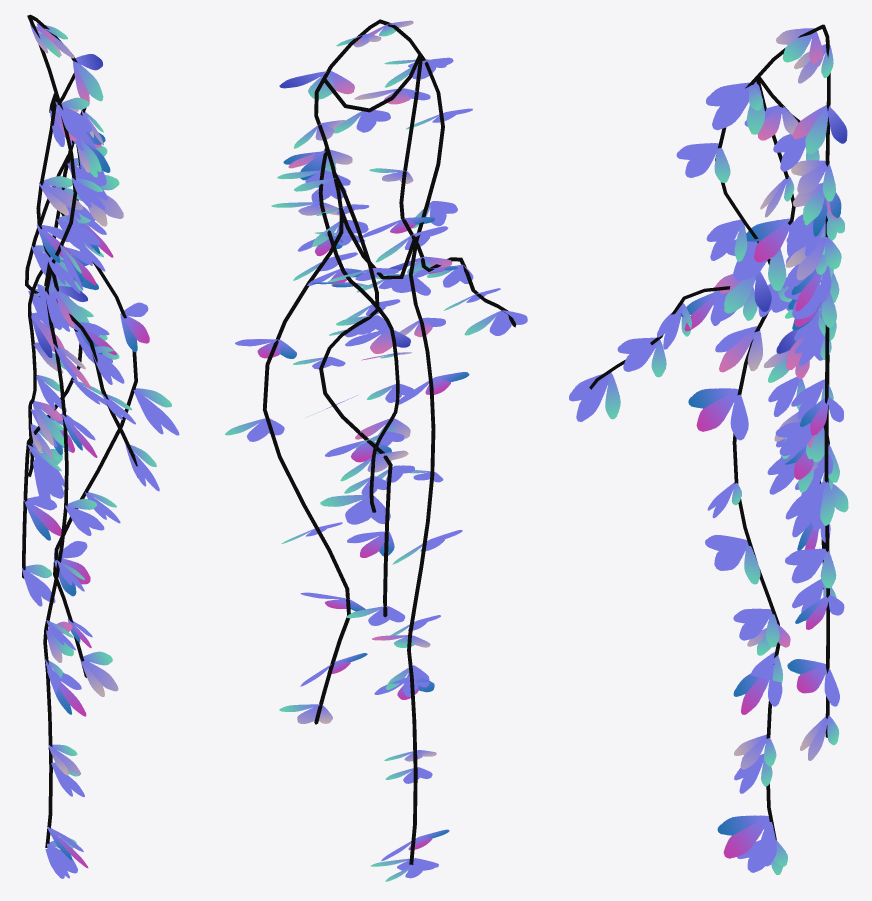
Rendered from SM_ivy_U_straight_B.FBX.
3 renders of one model, left to right at view 1: azimuth 30°, elevation 25°; view 2: azimuth 150°, elevation 25°; view 3: azimuth 270°, elevation 25°, orthographic. The views are drawn at different scales.
Visible parts, largest first — view 1: SM_ivy_U_straight_B; view 2: SM_ivy_U_straight_B; view 3: SM_ivy_U_straight_B.
Part boxes in pixels (<box>): SM_ivy_U_straight_B: <box>21,14,179,878</box>; SM_ivy_U_straight_B: <box>225,19,527,881</box>; SM_ivy_U_straight_B: <box>569,24,848,874</box>.
Size of the model in its own units: 138 by 597 by 189.
Materials: 2 (1 with a texture image).
